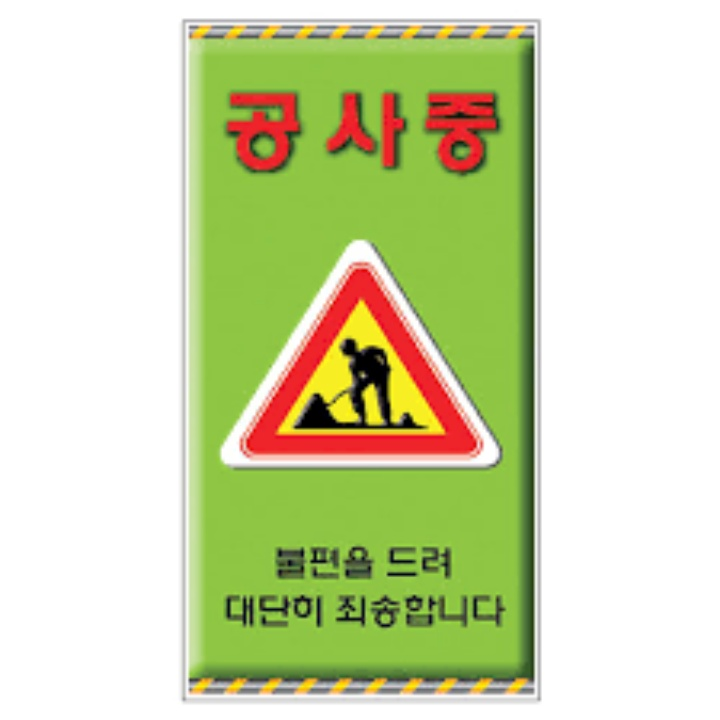const: (288, 326, 442, 437)
